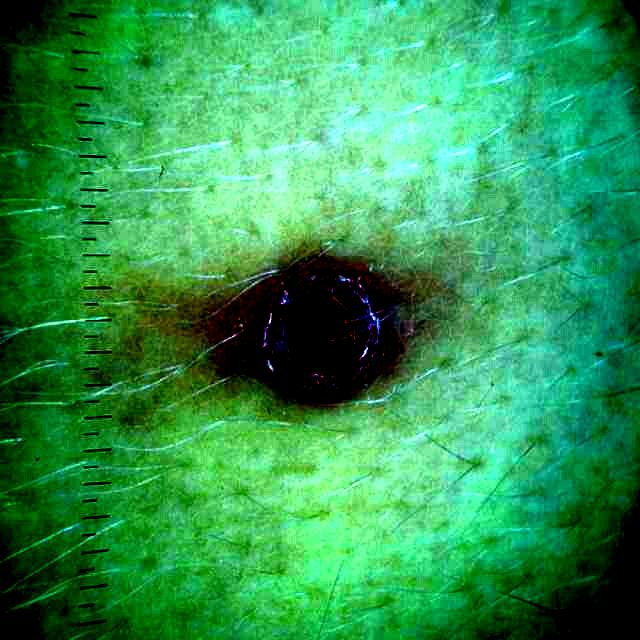VASC: (265, 274, 381, 389)
